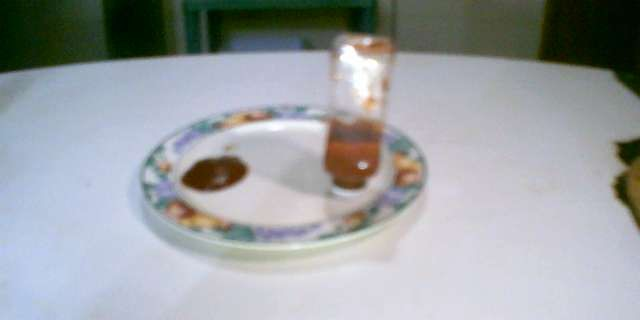ketchup_bottle: (319, 27, 399, 201)
ketchup_portion: (182, 148, 252, 194)
